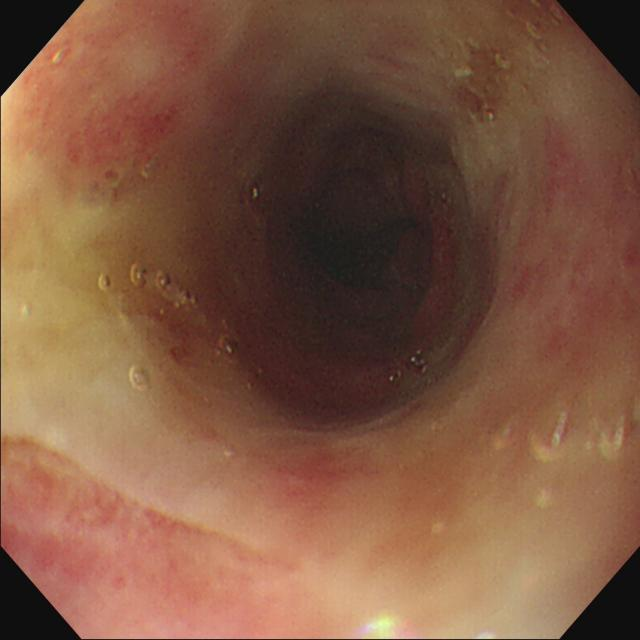A: (2, 431, 248, 640), (489, 140, 640, 389), (46, 47, 185, 201), (446, 2, 572, 127), (259, 432, 365, 522), (135, 304, 208, 369)
T: (125, 258, 152, 292), (156, 263, 183, 297), (217, 332, 244, 366), (92, 263, 119, 297)
